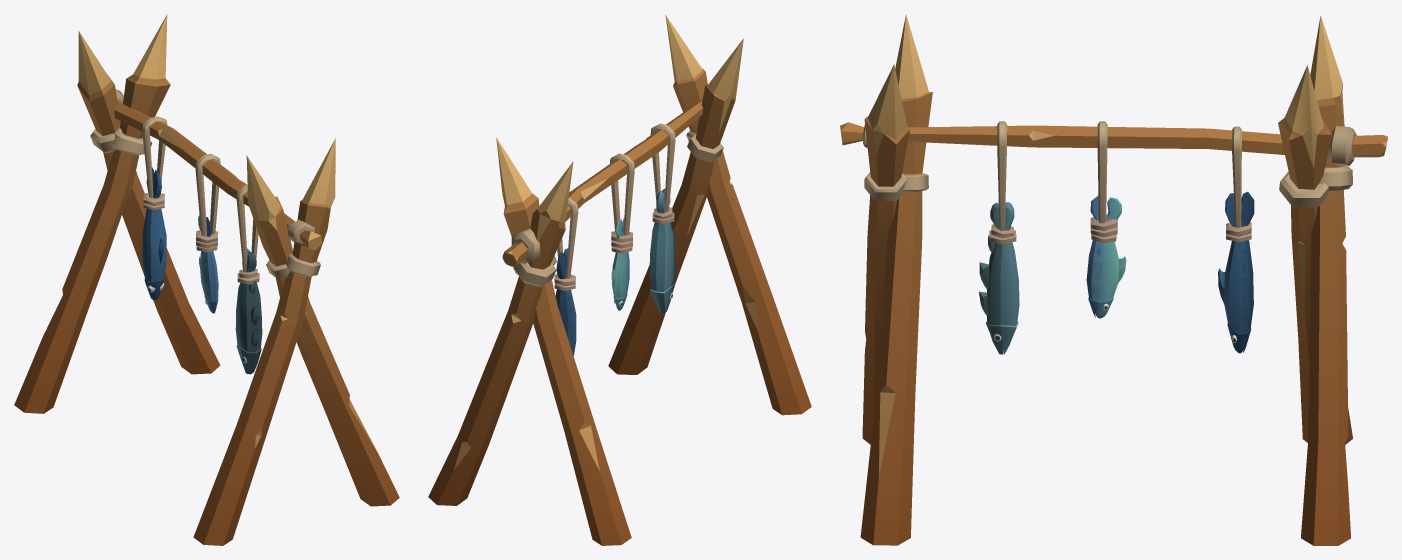
Rendered from DriedFish_1_B.glb.
The picture shows the model from 3 angles, left to right: view 1: azimuth 30°, elevation 25°; view 2: azimuth 150°, elevation 25°; view 3: azimuth 270°, elevation 25°; orthographic projection. The views are drawn at different scales.
Visible parts, largest first — view 1: DriedFish_1_B; view 2: DriedFish_1_B; view 3: DriedFish_1_B.
Boxes of the visible parts, <box> form: DriedFish_1_B: <box>14,14,399,545</box>; DriedFish_1_B: <box>428,14,811,545</box>; DriedFish_1_B: <box>840,14,1387,545</box>.
Bounding box in the file's own units: 1.22 × 2.18 × 2.41.
Materials: 1 (1 with a texture image).
